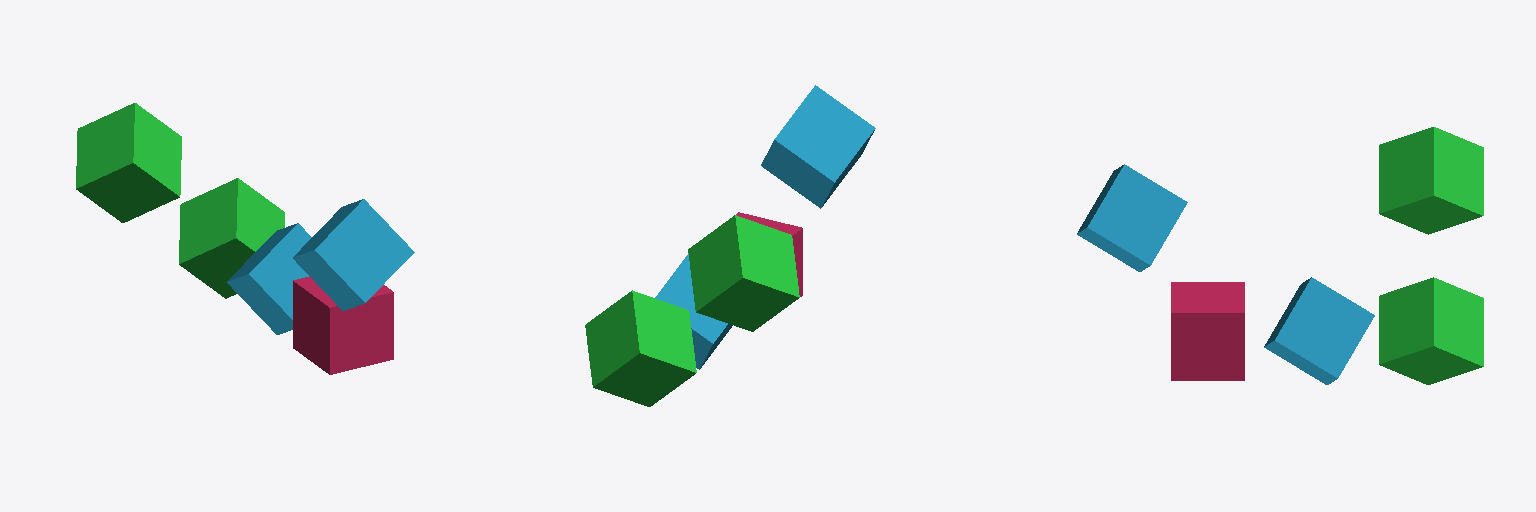
Rendered from 5_colors.obj.
3 views of the same model, side by side, from view 1: azimuth 30°, elevation 25°; view 2: azimuth 150°, elevation 25°; view 3: azimuth 270°, elevation 25° (orthographic).
Visible parts, largest first — view 1: Cube.4, Cube.2, Cube.3, Cube, Cube.1; view 2: Cube.4, Cube.2, Cube.3, Cube.1, Cube; view 3: Cube.4, Cube.2, Cube, Cube.1, Cube.3.
Part boxes in pixels (bbox=[...]): Cube.4: bbox=[76, 103, 181, 222]; Cube.2: bbox=[179, 178, 284, 298]; Cube.3: bbox=[293, 199, 414, 310]; Cube: bbox=[293, 276, 393, 374]; Cube.1: bbox=[227, 223, 311, 334]; Cube.4: bbox=[688, 215, 799, 331]; Cube.2: bbox=[585, 290, 696, 406]; Cube.3: bbox=[761, 85, 875, 208]; Cube.1: bbox=[655, 253, 732, 369]; Cube: bbox=[723, 212, 802, 299]; Cube.4: bbox=[1379, 127, 1483, 234]; Cube.2: bbox=[1379, 277, 1483, 384]; Cube: bbox=[1171, 282, 1244, 380]; Cube.1: bbox=[1264, 277, 1374, 384]; Cube.3: bbox=[1077, 164, 1187, 271].
Size of the model in its own units: 6.59 by 6.41 by 10.95.